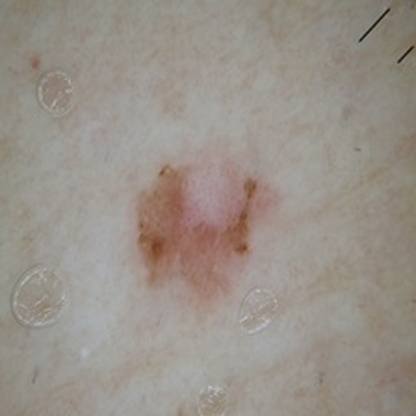malignant: (142, 159, 271, 297)
